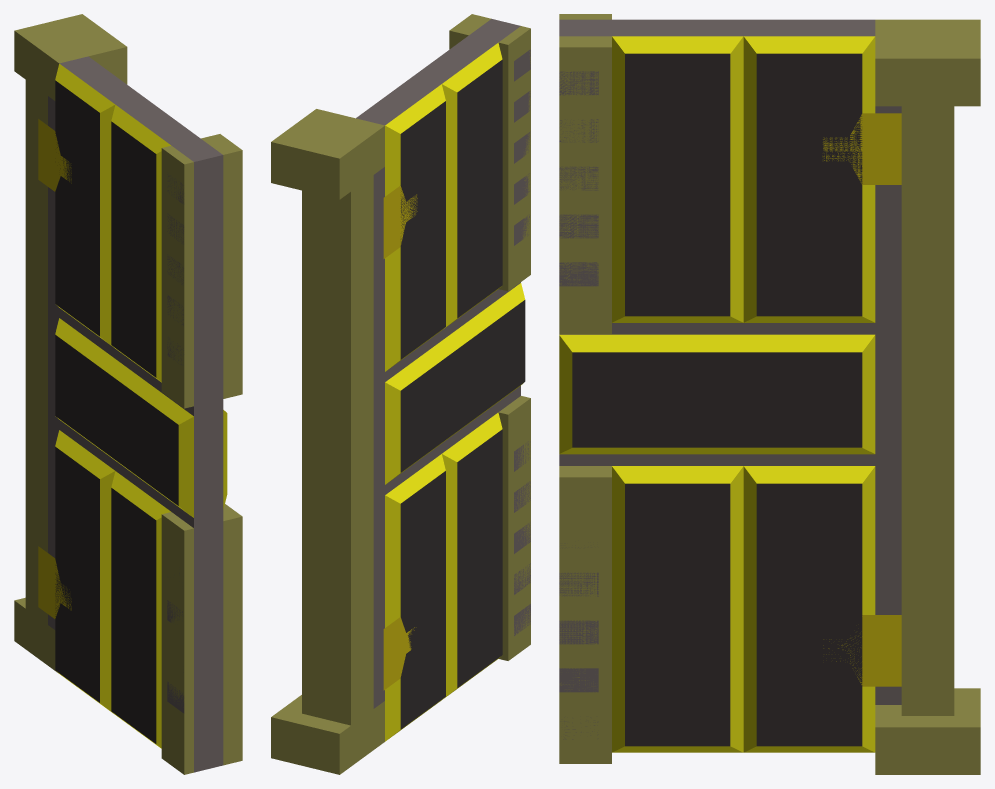
Rendered from obj_legends_guild_door_2_0.obj.
The picture shows the model from 3 angles, left to right: view 1: azimuth 30°, elevation 25°; view 2: azimuth 150°, elevation 25°; view 3: azimuth 270°, elevation 25°; orthographic projection. The views are drawn at different scales.
Size of the model in its own units: 0.25 by 1.88 by 1.
